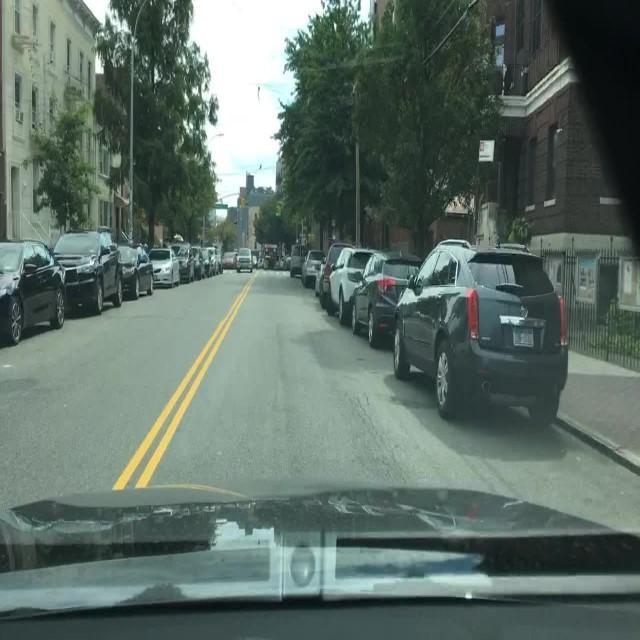normal: (387, 238, 566, 424), (0, 239, 64, 347), (354, 251, 424, 346), (52, 231, 125, 316), (322, 248, 380, 320), (117, 243, 155, 301), (150, 247, 182, 288), (301, 250, 325, 290), (173, 246, 198, 283), (288, 249, 307, 278), (234, 250, 256, 274), (206, 246, 222, 275)
